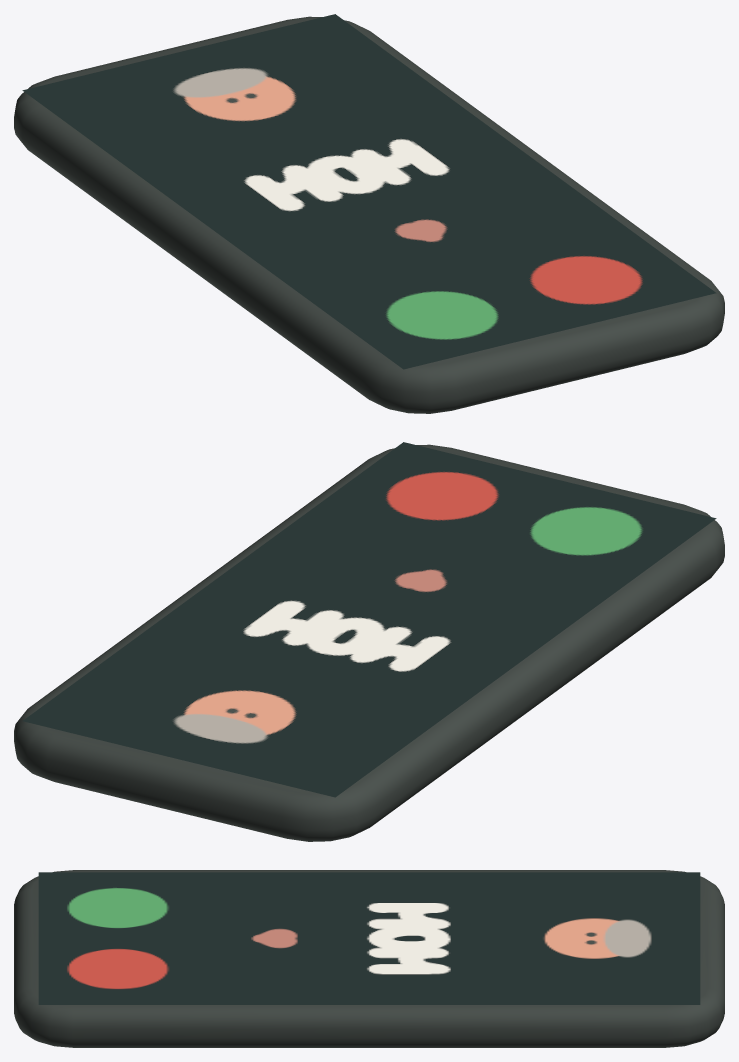
Rendered from phone.glb.
3 renders of one model, top to bottom at view 1: azimuth 30°, elevation 25°; view 2: azimuth 150°, elevation 25°; view 3: azimuth 270°, elevation 25°, orthographic. The views are drawn at different scales.
Visible parts, largest first — view 1: Screen, Case; view 2: Screen, Case; view 3: Screen, Case.
Part boxes in pixels (bbox=[...]): Screen: bbox=[22, 14, 716, 369]; Case: bbox=[14, 16, 724, 413]; Screen: bbox=[22, 442, 716, 797]; Case: bbox=[14, 444, 724, 841]; Screen: bbox=[38, 872, 700, 1004]; Case: bbox=[14, 870, 724, 1047].
Bounding box in the file's own units: 0.072 × 0.0091 × 0.145.
2 materials, 1 textured.
